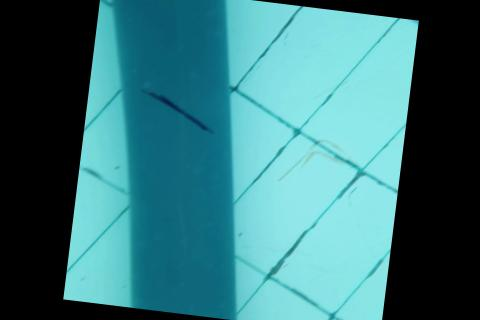keretakan: (136, 86, 217, 135)
